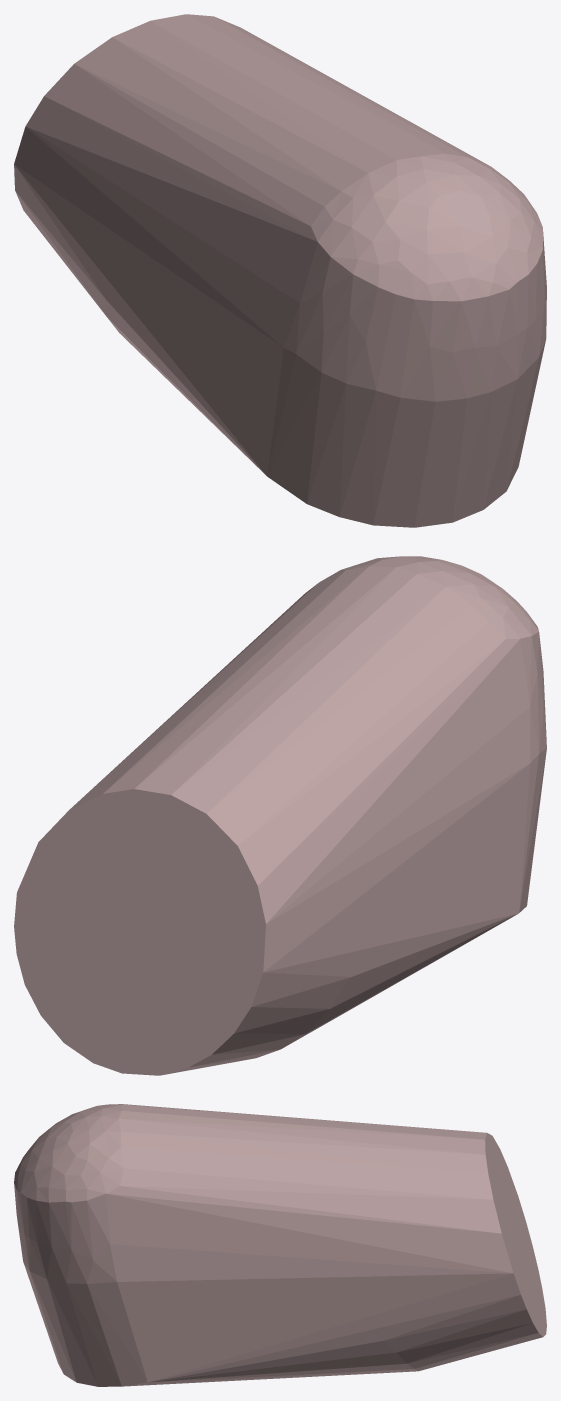
The model's file is Panda_link2_respondable_coll_1.dae.
3 renders of one model, top to bottom at view 1: azimuth 30°, elevation 25°; view 2: azimuth 150°, elevation 25°; view 3: azimuth 270°, elevation 25°, orthographic. The views are drawn at different scales.
Parts seen in each view (by area): view 1: Node_0x7f9e89c3be10; view 2: Node_0x7f9e89c3be10; view 3: Node_0x7f9e89c3be10.
Boxes of the visible parts, box(x1,y1,x2,y2) form: Node_0x7f9e89c3be10: box(14, 14, 546, 527); Node_0x7f9e89c3be10: box(14, 556, 546, 1075); Node_0x7f9e89c3be10: box(14, 1104, 546, 1386).
Size of the model in its own units: 0.1111 by 0.1421 by 0.2773.
